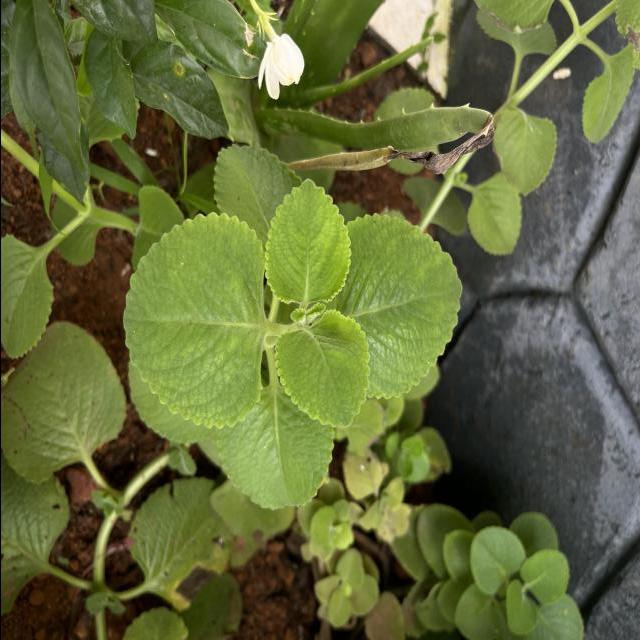Plectranthus barbatus: (122, 210, 266, 430), (338, 211, 462, 401), (0, 319, 128, 486), (213, 388, 334, 511), (272, 308, 371, 428), (263, 177, 352, 305), (493, 106, 557, 198), (464, 172, 522, 258)
